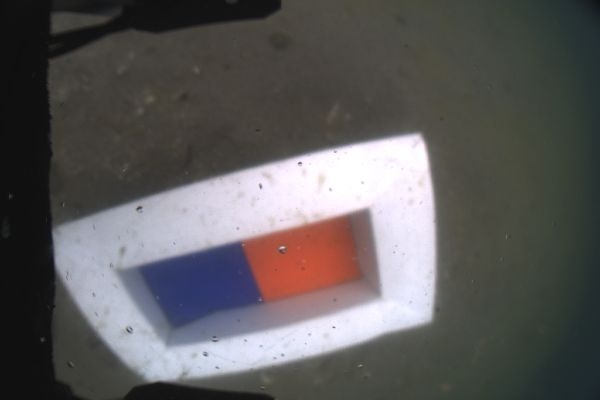bin: (53, 132, 437, 382)
bin_bleue: (138, 243, 264, 328)
bin_rouge: (242, 214, 362, 302)
